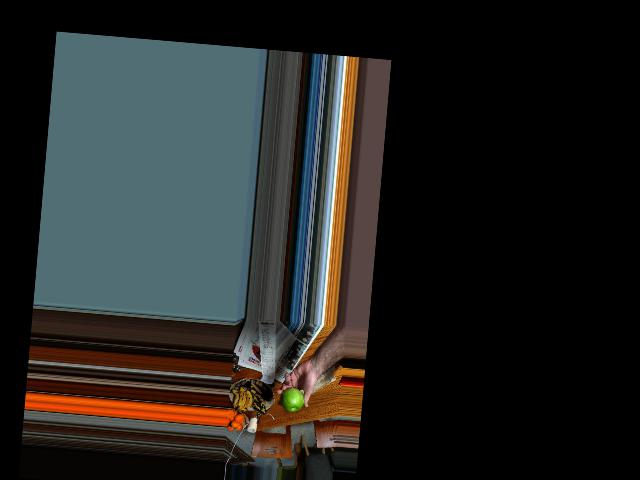apple: (281, 386, 304, 412)
